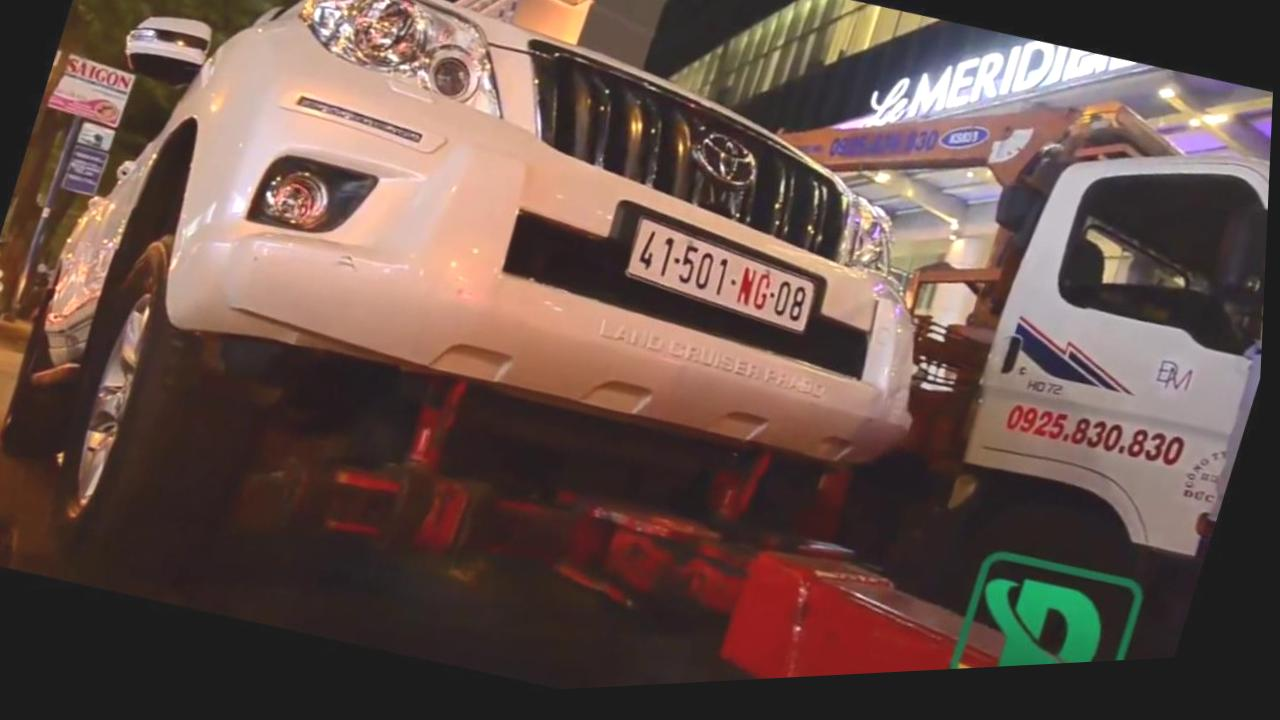License_Plate: (618, 200, 824, 357)
